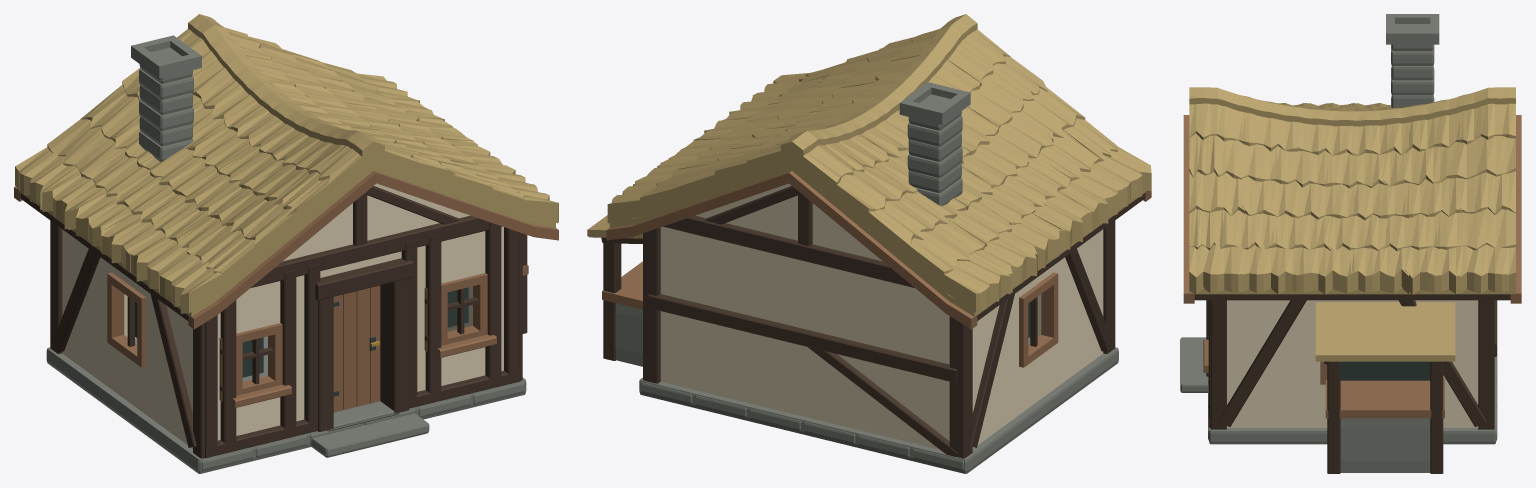
The model's file is asset.glb.
3 renders of one model, left to right at view 1: azimuth 30°, elevation 25°; view 2: azimuth 150°, elevation 25°; view 3: azimuth 270°, elevation 25°, orthographic. The views are drawn at different scales.
Visible parts, largest first — view 1: foundation, side-wall-pier--1--1, side-wall-pier--1-1, eave-beam-1, entrance-jamb-1, gable-1, roof-rake--1-1, entrance-step, roof-left-band-4-5, roof-left-band-2-5, front-bay-post-2-right, roof-left-band-3-0 (+103 smaller); view 2: wall-rear, foundation, rear-cross-beam, side-wall-pier--1-1, side-wall-pier--1--1, eave-beam--1, gable--1, corner-post--1--1, roof-left-band-3-0, roof-rake--1--1, corner-post-1--1, roof-left-band-1-0 (+73 smaller); view 3: side-wall-pier-1-1, work-bay, work-bay-surface, foundation, work-bay-cover-0, work-bay-cover-1, roof-right-band-3-0, roof-right-band-1-0, work-bay-cover-2, side-wall-pier-1--1, roof-right-band-4-4, roof-right-band-4-5 (+53 smaller).
Boxes of the visible parts, x1,y1,x2,y2 form: foundation: (46,336,526,473); side-wall-pier--1--1: (62,231,126,389); side-wall-pier--1-1: (146,291,192,448); eave-beam-1: (251,215,501,287); entrance-jamb-1: (380,278,409,413); gable-1: (283,183,469,261); roof-rake--1-1: (188,171,376,329); entrance-step: (311,413,429,457); roof-left-band-4-5: (160,253,225,313); roof-left-band-2-5: (226,199,302,264); front-bay-post-2-right: (425,234,441,393); roof-left-band-3-0: (47,119,125,177); wall-rear: (660,226,949,449); foundation: (639,338,1118,473); rear-cross-beam: (648,294,957,383); side-wall-pier--1-1: (1038,231,1100,389); side-wall-pier--1--1: (948,291,1018,448); eave-beam--1: (663,215,914,287); gable--1: (695,183,882,261); corner-post--1--1: (949,316,972,458); roof-left-band-3-0: (901,217,985,290); roof-rake--1--1: (789,171,977,329); corner-post-1--1: (643,227,660,383); roof-left-band-1-0: (831,165,917,229); side-wall-pier-1-1: (1227,300,1320,427); work-bay: (1340,418,1430,472); work-bay-surface: (1325,378,1444,418); foundation: (1209,357,1496,444); work-bay-cover-0: (1406,302,1455,361); work-bay-cover-1: (1359,302,1408,361); roof-right-band-3-0: (1437,208,1515,250); roof-right-band-1-0: (1437,136,1515,183); work-bay-cover-2: (1315,302,1361,361); side-wall-pier-1--1: (1385,300,1478,427); roof-right-band-4-4: (1242,244,1299,294); roof-right-band-4-5: (1189,242,1244,294).
Size of the model in its own units: 6.79 by 4.95 by 5.01.
